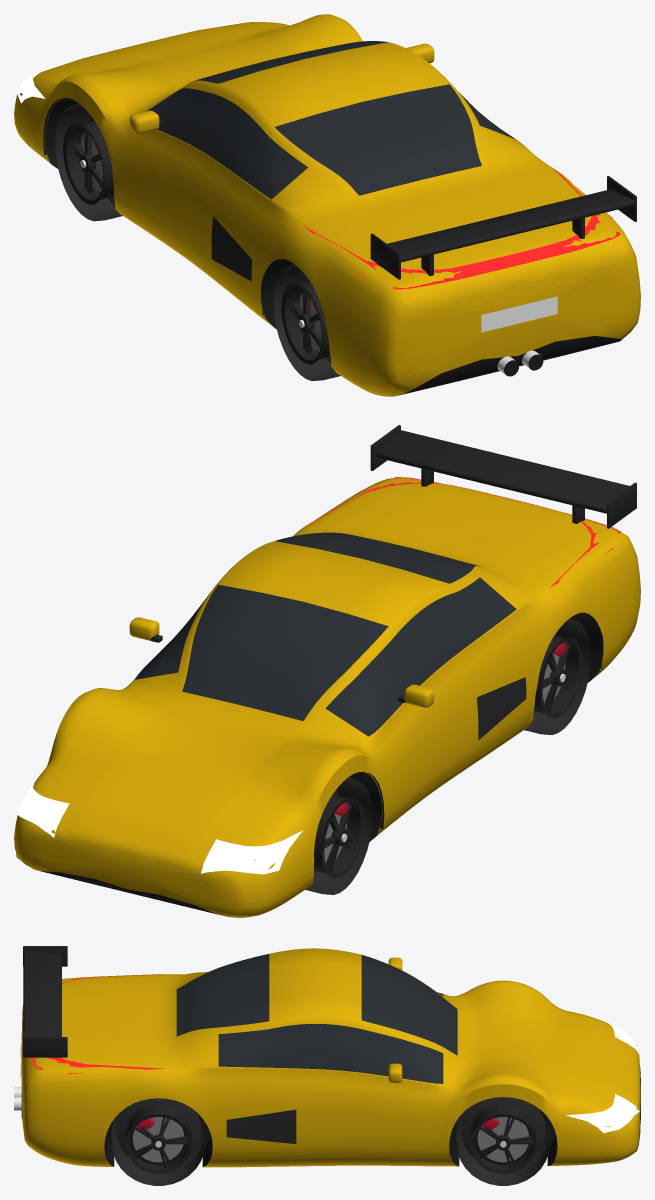
File: cayman_gt4.glb
The picture shows the model from 3 angles, top to bottom: view 1: azimuth 30°, elevation 25°; view 2: azimuth 150°, elevation 25°; view 3: azimuth 270°, elevation 25°; orthographic projection. The views are drawn at different scales.
Parts seen in each view (by area): view 1: Body, Wheel_FL, Wheel_RL; view 2: Body, Wheel_FL, Wheel_RL; view 3: Body, Wheel_FR, Wheel_RR.
Part boxes in pixels (x1=…): Body: x1=14, y1=14, x2=640, y2=396; Wheel_FL: x1=55, y1=103, x2=122, y2=221; Wheel_RL: x1=273, y1=264, x2=340, y2=380; Body: x1=14, y1=425, x2=640, y2=917; Wheel_FL: x1=305, y1=777, x2=372, y2=894; Wheel_RL: x1=524, y1=618, x2=590, y2=734; Body: x1=14, y1=946, x2=640, y2=1167; Wheel_FR: x1=456, y1=1097, x2=550, y2=1185; Wheel_RR: x1=111, y1=1098, x2=205, y2=1185.
Bounding box in the file's own units: 1.96 × 1.25 × 4.51.
